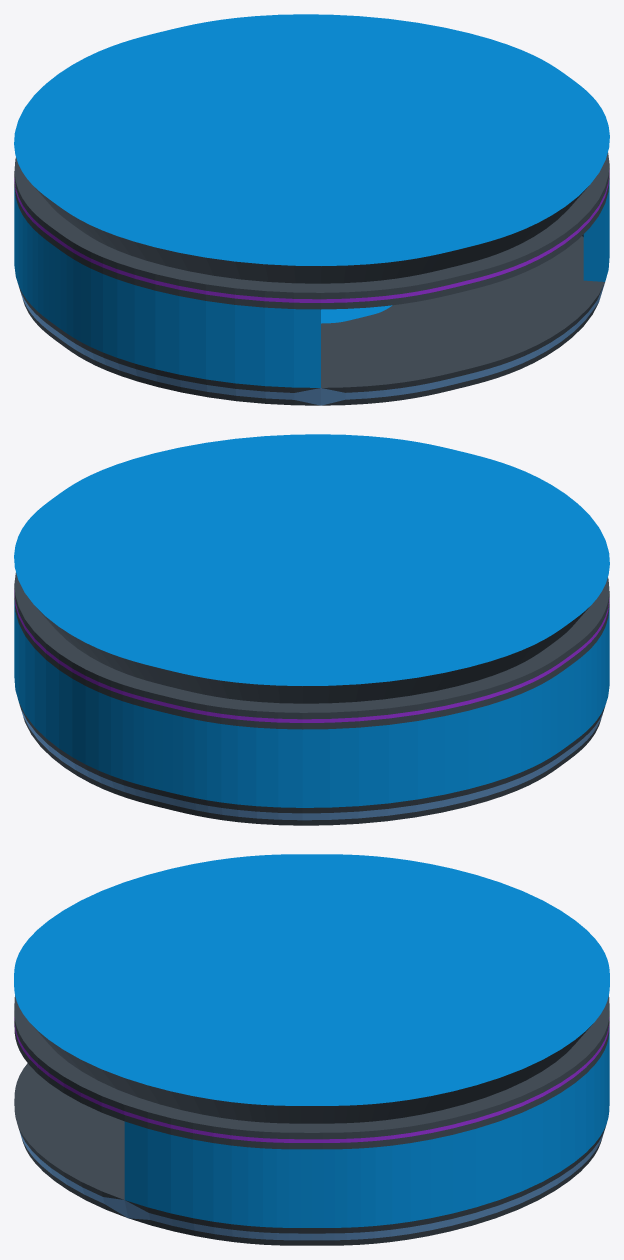
Rendered from WeirdShip.fbx.
3 views of the same model, one above another, from view 1: azimuth 30°, elevation 25°; view 2: azimuth 150°, elevation 25°; view 3: azimuth 270°, elevation 25° (orthographic).
Parts seen in each view (by area): view 1: Cube; view 2: Cube; view 3: Cube.
Boxes of the visible parts, x1,y1,x2,y2 form: Cube: [14, 14, 609, 405]; Cube: [14, 434, 609, 825]; Cube: [14, 854, 609, 1245].
Bounding box in the file's own units: 964 × 255 × 964.
